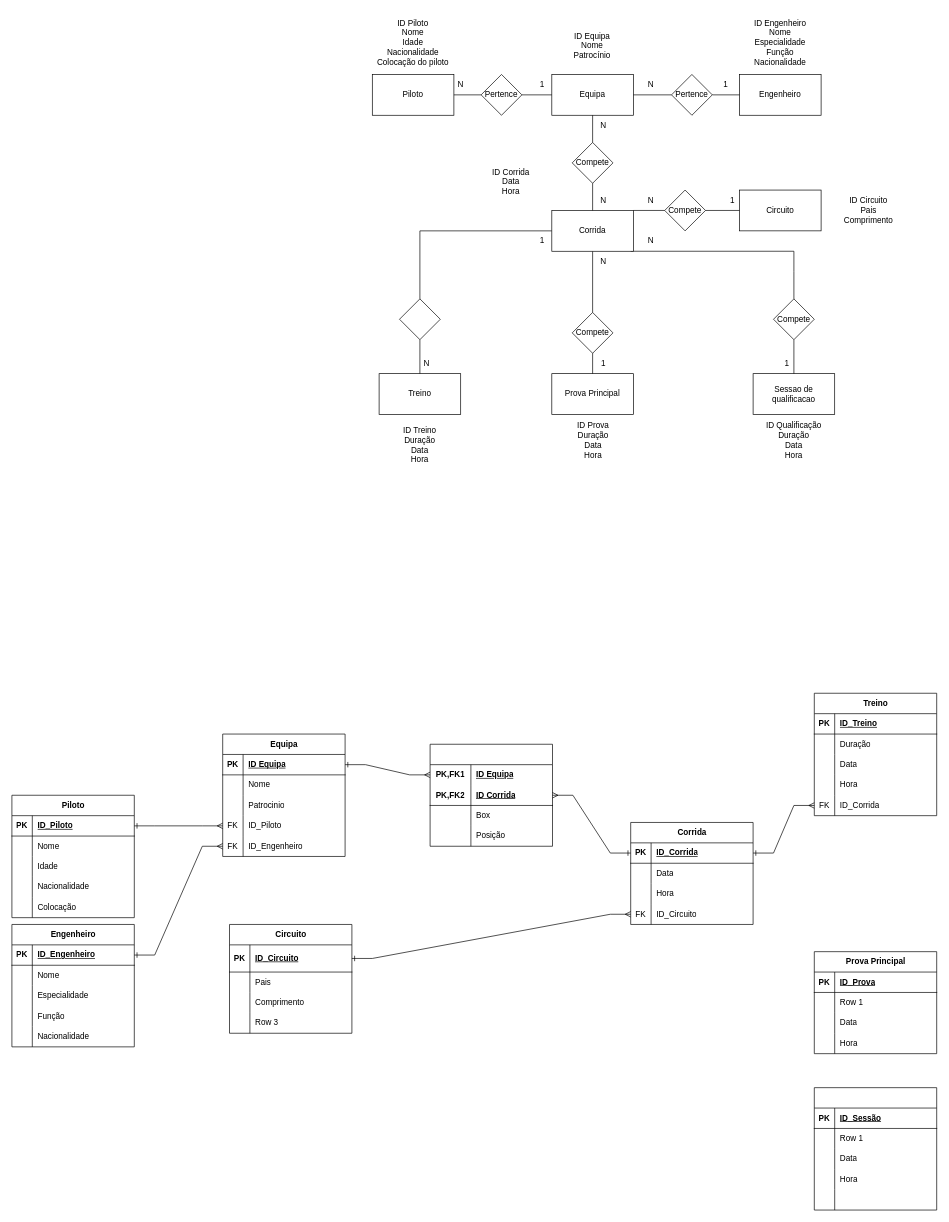
Some shapes in this 949 by 1222 pixel diagram are drawn without their labels. The shapes that lost their labels are listed below. From the top down, each one's box as (x1, y1, x2, y2) in pixels, then its label:
(399, 298, 440, 340): Faz
(429, 744, 552, 846): Equipa_Corrida
(814, 1087, 937, 1210): Sessão Qualificação
